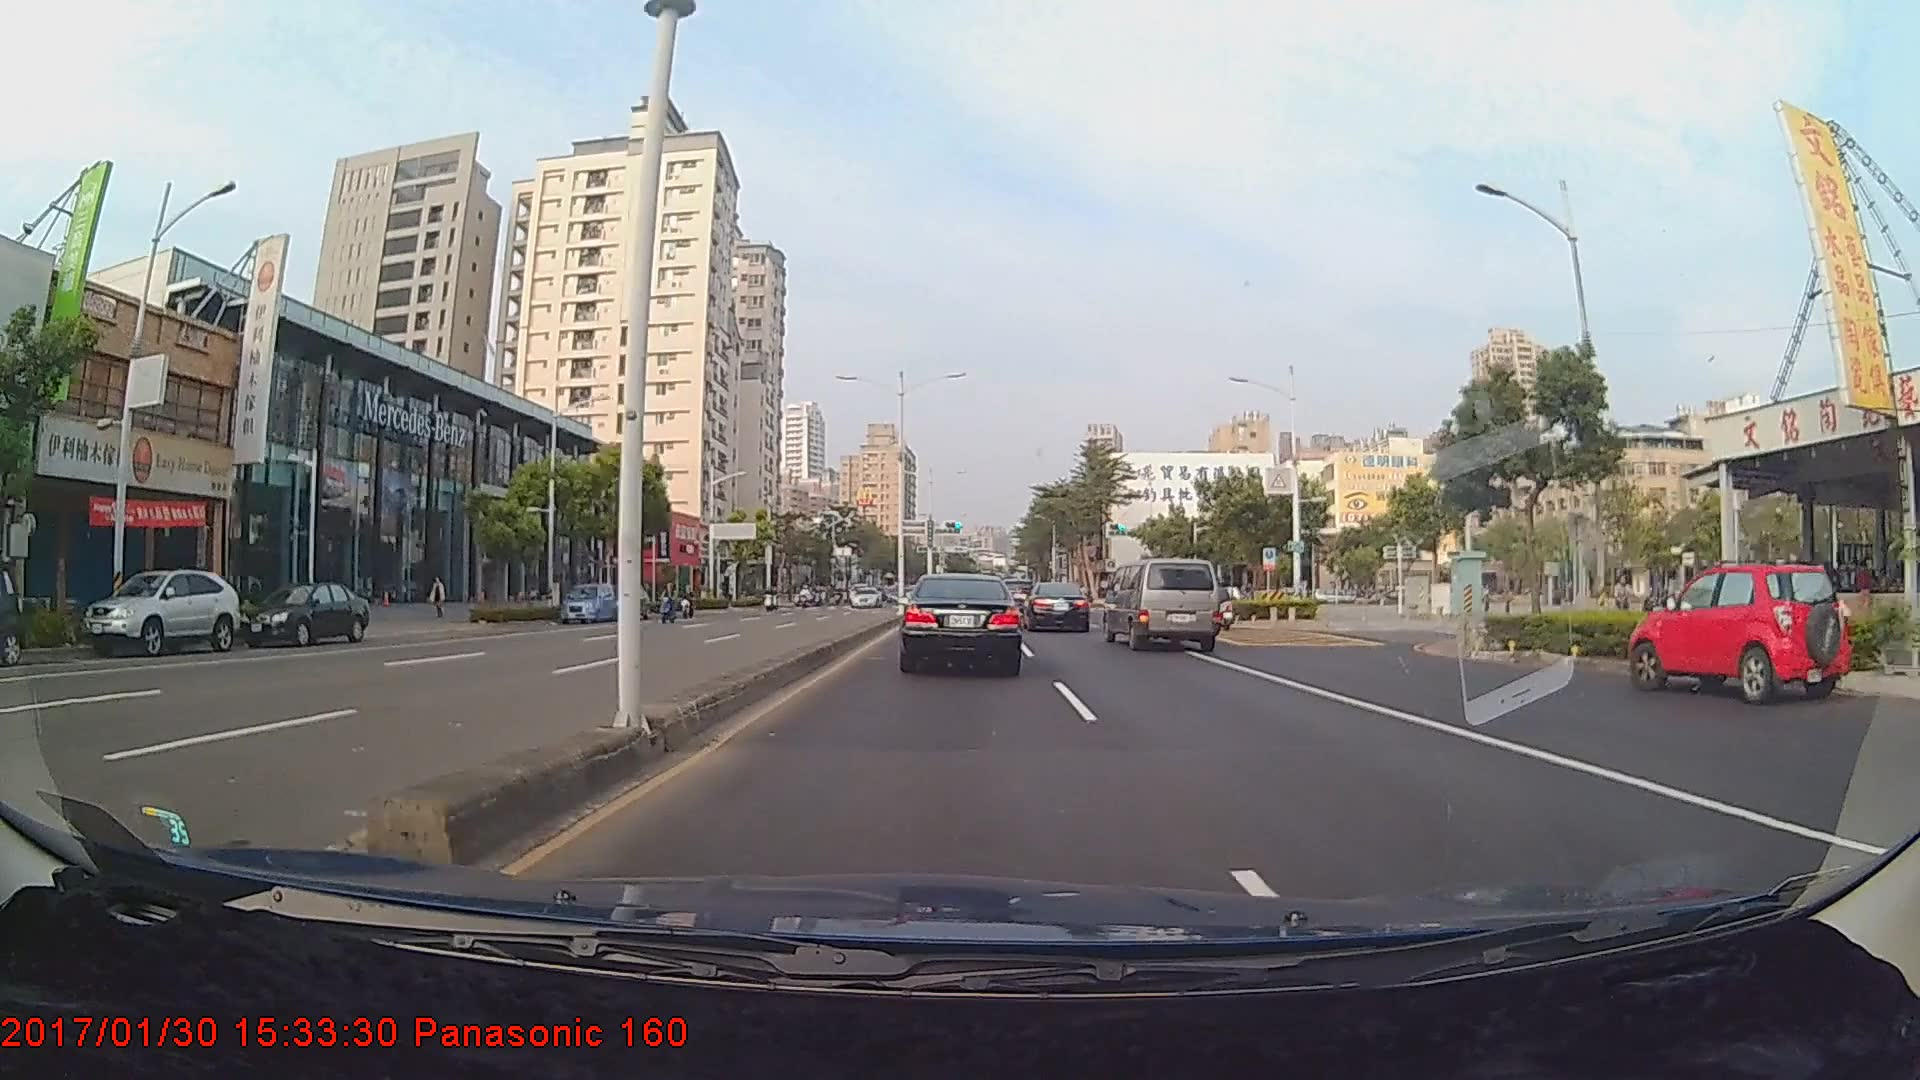pedestrian: (428, 575, 450, 623)
vehicle: (1632, 561, 1846, 703), (80, 565, 237, 655), (900, 573, 1020, 674), (1103, 557, 1218, 650), (238, 580, 371, 646), (1022, 580, 1092, 634), (558, 581, 616, 624), (852, 585, 884, 607)
